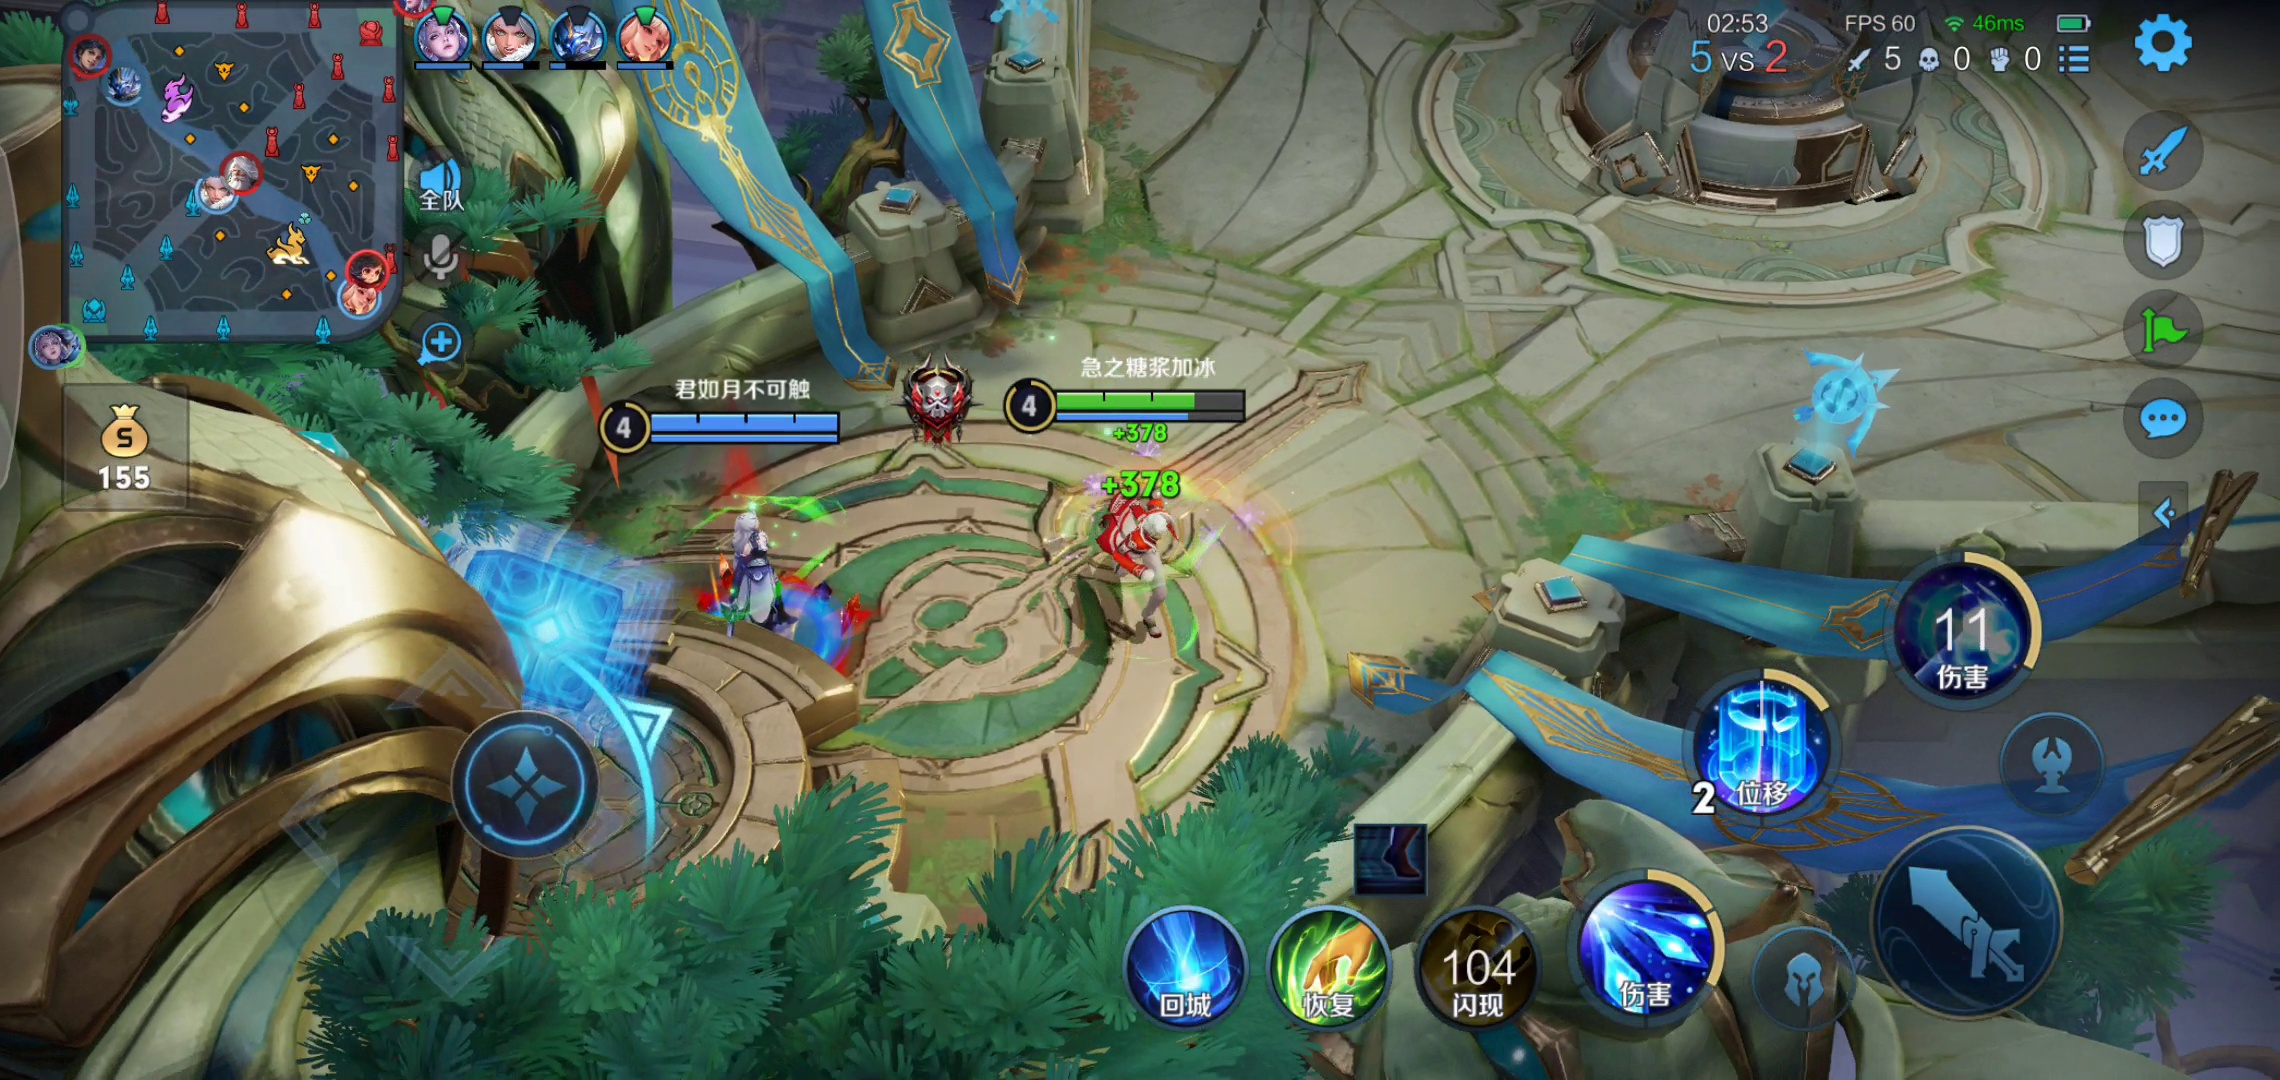crystal: (1552, 1, 1950, 212)
hero: (1067, 470, 1221, 635), (679, 485, 826, 658)
